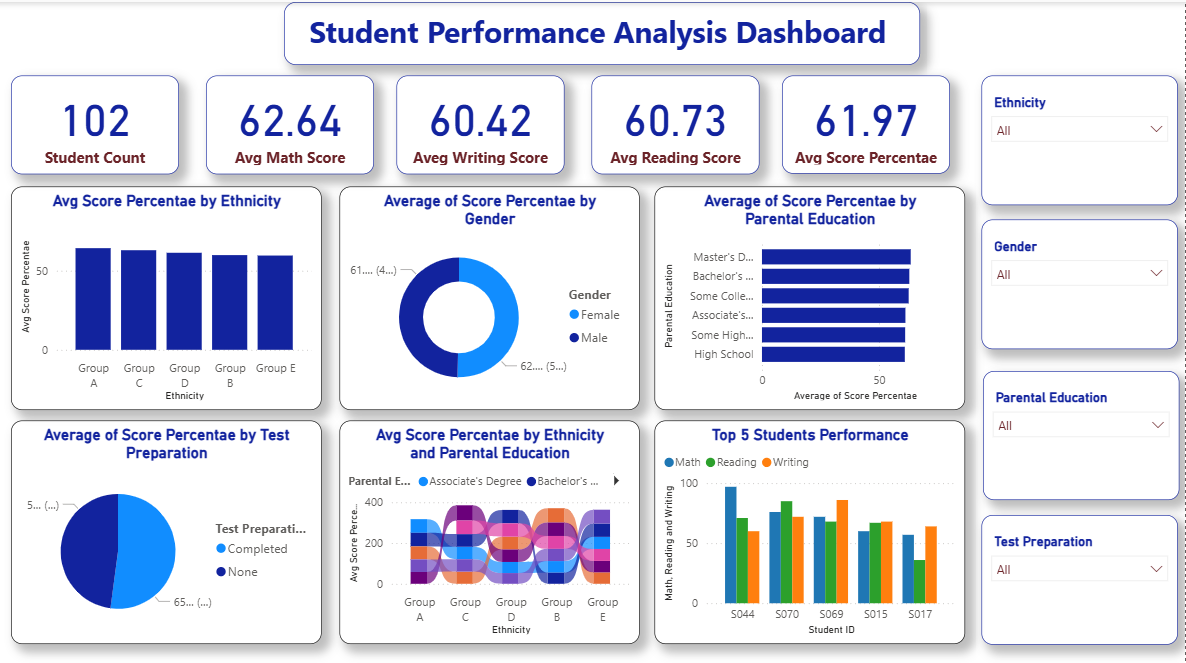

This screenshot's page, from the dashboard's own definition file:
{"tool":"powerbi","page":{"name":"All Subject dashboard","canvas":[1280,720],"ordinal":0},"visuals":[{"type":"textbox","box":[307.7,0,686.6,68],"z":0},{"type":"card","fields":{"Values":["CountNonNull(Sheet1.Student ID)"]},"box":[13,80,181.4,106.9],"z":1000},{"type":"card","fields":{"Values":["Avg(Sheet1.Math Score)"]},"box":[223,80,181.4,106.9],"z":2000},{"type":"card","fields":{"Values":["Avg(Sheet1.Writing Score)"]},"box":[429,79.3,181.4,106.9],"z":3000},{"type":"card","fields":{"Values":["Avg(Sheet1.Reading Score)"]},"box":[639.6,79.3,181.4,106.9],"z":4000},{"type":"card","fields":{"Values":["Avg(Sheet1.Score Percentae)"]},"box":[845.2,79.3,181.4,106],"z":5000},{"type":"slicer","fields":{"Values":["Sheet1.Ethnicity"]},"box":[1060.6,79.3,212,140],"z":6000},{"type":"slicer","fields":{"Values":["Sheet1.Gender"]},"box":[1060.6,234.8,212,140],"z":7000},{"type":"slicer","fields":{"Values":["Sheet1.Parental Education"]},"box":[1062.2,398.3,212.1,139.3],"z":8000},{"type":"columnChart","fields":{"Category":["Sheet1.Ethnicity"],"Y":["Avg(Sheet1.Score Percentae)"]},"box":[13,199.2,335.2,241.3],"z":9000},{"type":"donutChart","fields":{"Category":["Sheet1.Gender"],"Y":["Avg(Sheet1.Score Percentae)"]},"box":[367.6,199.2,323.8,241.3],"z":10000},{"type":"clusteredBarChart","fields":{"Y":["Avg(Sheet1.Score Percentae)"],"Category":["Sheet1.Parental Education"]},"box":[707.6,199.2,335.2,241.3],"z":11000},{"type":"pieChart","fields":{"Y":["Avg(Sheet1.Score Percentae)"],"Category":["Sheet1.Test Preparation"]},"box":[13,451.8,335.2,241.3],"z":12000},{"type":"ribbonChart","fields":{"Category":["Sheet1.Ethnicity"],"Y":["Avg(Sheet1.Score Percentae)"],"Series":["Sheet1.Parental Education"]},"box":[367.6,451.8,323.8,241.3],"z":13000},{"type":"slicer","fields":{"Values":["Sheet1.Test Preparation"]},"box":[1060.6,553.8,212,140],"z":14000},{"type":"clusteredColumnChart","title":"Top 5 Students Performance","fields":{"Y":["Avg(Sheet1.Math Score)","Avg(Sheet1.Reading Score)","Avg(Sheet1.Writing Score)"],"Category":["Sheet1.Student ID"]},"box":[707.6,451.8,335.2,241.3],"z":15000}]}

Visuals, with their boxes in screenshot pixels (x1, y1, x2, y2), scaled from the page's 1280x720 canvas onto the 1186x663 screenshot:
textbox: {"x1": 285, "y1": 0, "x2": 921, "y2": 63}
card - CountNonNull(Sheet1.Student ID): {"x1": 12, "y1": 74, "x2": 180, "y2": 172}
card - Avg(Sheet1.Math Score): {"x1": 207, "y1": 74, "x2": 375, "y2": 172}
card - Avg(Sheet1.Writing Score): {"x1": 397, "y1": 73, "x2": 566, "y2": 171}
card - Avg(Sheet1.Reading Score): {"x1": 593, "y1": 73, "x2": 761, "y2": 171}
card - Avg(Sheet1.Score Percentae): {"x1": 783, "y1": 73, "x2": 951, "y2": 171}
slicer - Sheet1.Ethnicity: {"x1": 983, "y1": 73, "x2": 1179, "y2": 202}
slicer - Sheet1.Gender: {"x1": 983, "y1": 216, "x2": 1179, "y2": 345}
slicer - Sheet1.Parental Education: {"x1": 984, "y1": 367, "x2": 1181, "y2": 495}
columnChart - Sheet1.Ethnicity x Avg(Sheet1.Score Percentae): {"x1": 12, "y1": 183, "x2": 323, "y2": 406}
donutChart - Sheet1.Gender x Avg(Sheet1.Score Percentae): {"x1": 341, "y1": 183, "x2": 641, "y2": 406}
clusteredBarChart - Avg(Sheet1.Score Percentae) x Sheet1.Parental Education: {"x1": 656, "y1": 183, "x2": 966, "y2": 406}
pieChart - Avg(Sheet1.Score Percentae) x Sheet1.Test Preparation: {"x1": 12, "y1": 416, "x2": 323, "y2": 638}
ribbonChart - Sheet1.Ethnicity x Avg(Sheet1.Score Percentae): {"x1": 341, "y1": 416, "x2": 641, "y2": 638}
slicer - Sheet1.Test Preparation: {"x1": 983, "y1": 510, "x2": 1179, "y2": 639}
"Top 5 Students Performance" clusteredColumnChart: {"x1": 656, "y1": 416, "x2": 966, "y2": 638}
